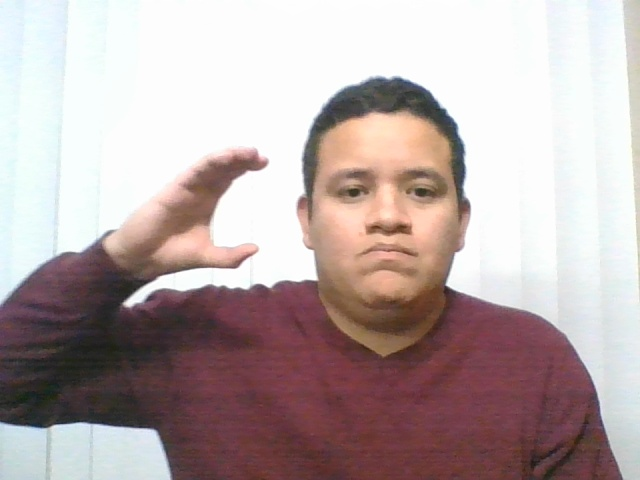Cousin: (94, 128, 297, 291)
